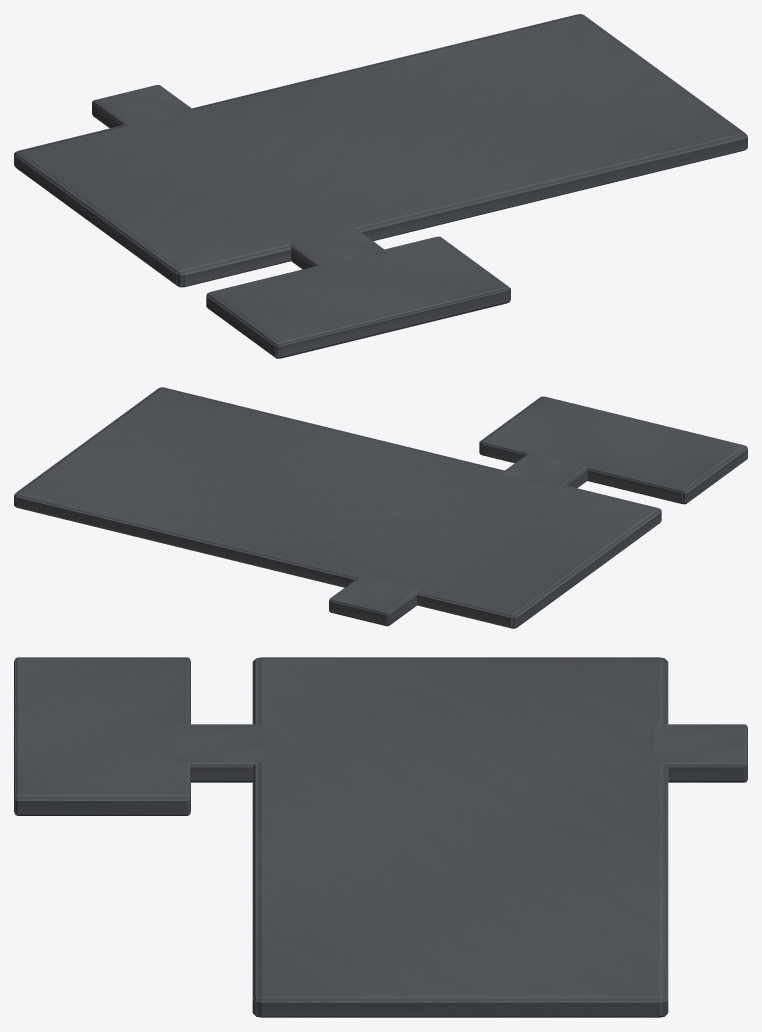
Rendered from retreat_expanded_a3_roof.glb.
The picture shows the model from 3 angles, top to bottom: view 1: azimuth 30°, elevation 25°; view 2: azimuth 150°, elevation 25°; view 3: azimuth 270°, elevation 25°; orthographic projection. The views are drawn at different scales.
Visible parts, largest first — view 1: Roof_Dining, Roof_Kitchen, Roof_Entrance, Roof_Hallway; view 2: Roof_Dining, Roof_Kitchen, Roof_Entrance, Roof_Hallway; view 3: Roof_Dining, Roof_Kitchen, Roof_Entrance, Roof_Hallway.
Boxes of the visible parts, box(x1,y1,x2,y2) form: Roof_Dining: box(14, 14, 747, 287); Roof_Kitchen: box(206, 236, 510, 358); Roof_Entrance: box(92, 85, 194, 128); Roof_Hallway: box(288, 226, 388, 269); Roof_Dining: box(14, 387, 661, 628); Roof_Kitchen: box(479, 396, 747, 504); Roof_Entrance: box(329, 574, 419, 626); Roof_Hallway: box(502, 450, 587, 487); Roof_Dining: box(252, 657, 668, 1017); Roof_Kitchen: box(14, 657, 190, 815); Roof_Entrance: box(654, 724, 747, 782); Roof_Hallway: box(174, 724, 269, 782).
Size of the model in its own units: 15.34 by 0.42 by 13.84.
Materials: 1 (1 with a texture image).
